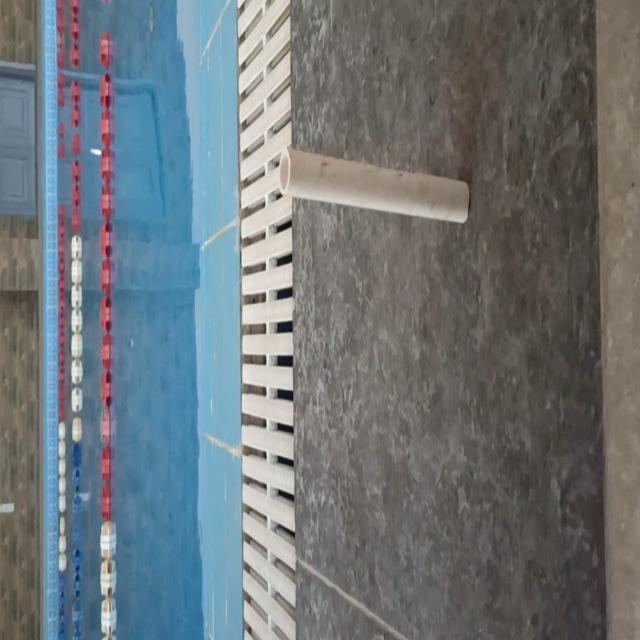Cube: (277, 141, 470, 226)
